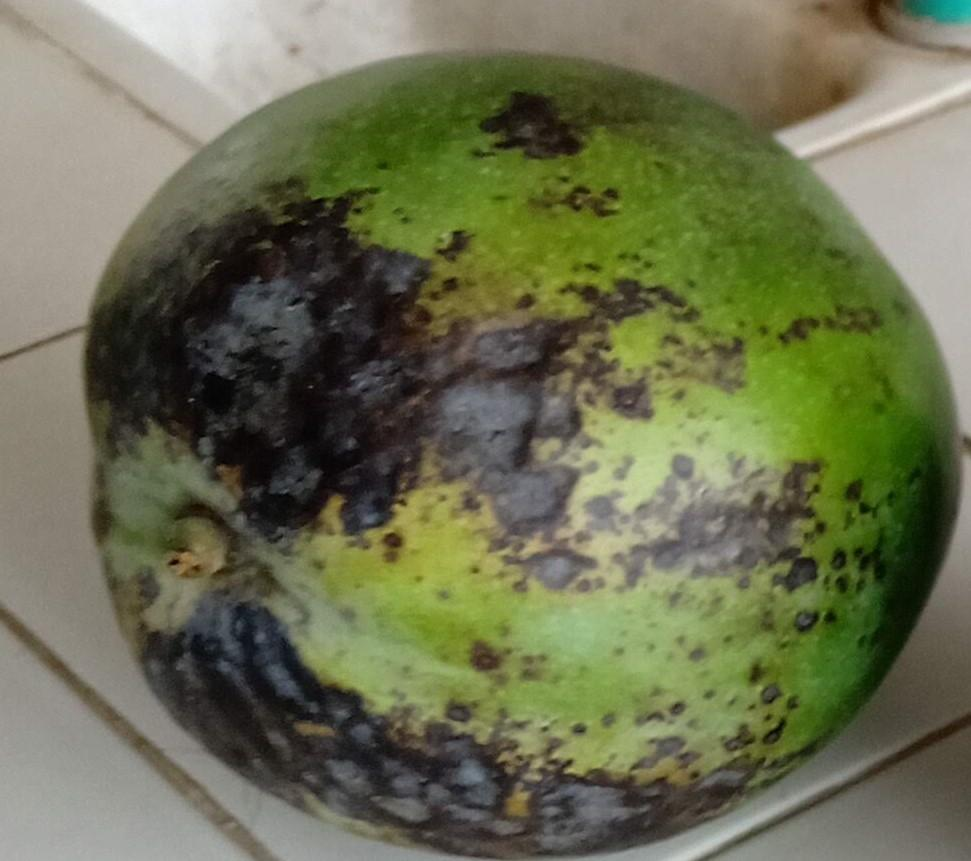mango: (82, 47, 962, 857)
